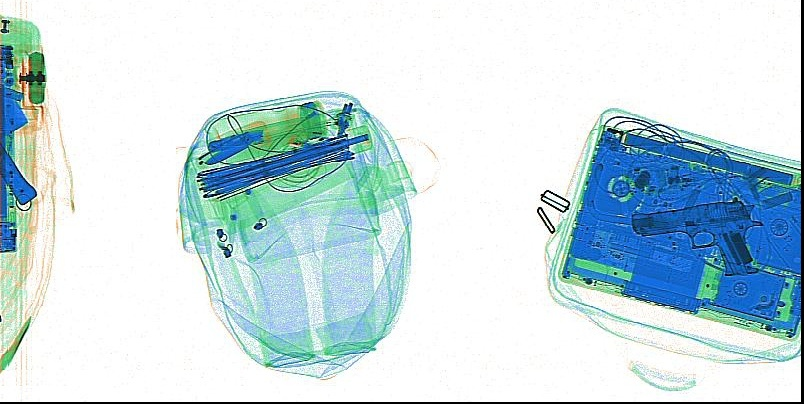knife: (207, 119, 266, 151), (202, 131, 252, 164)
